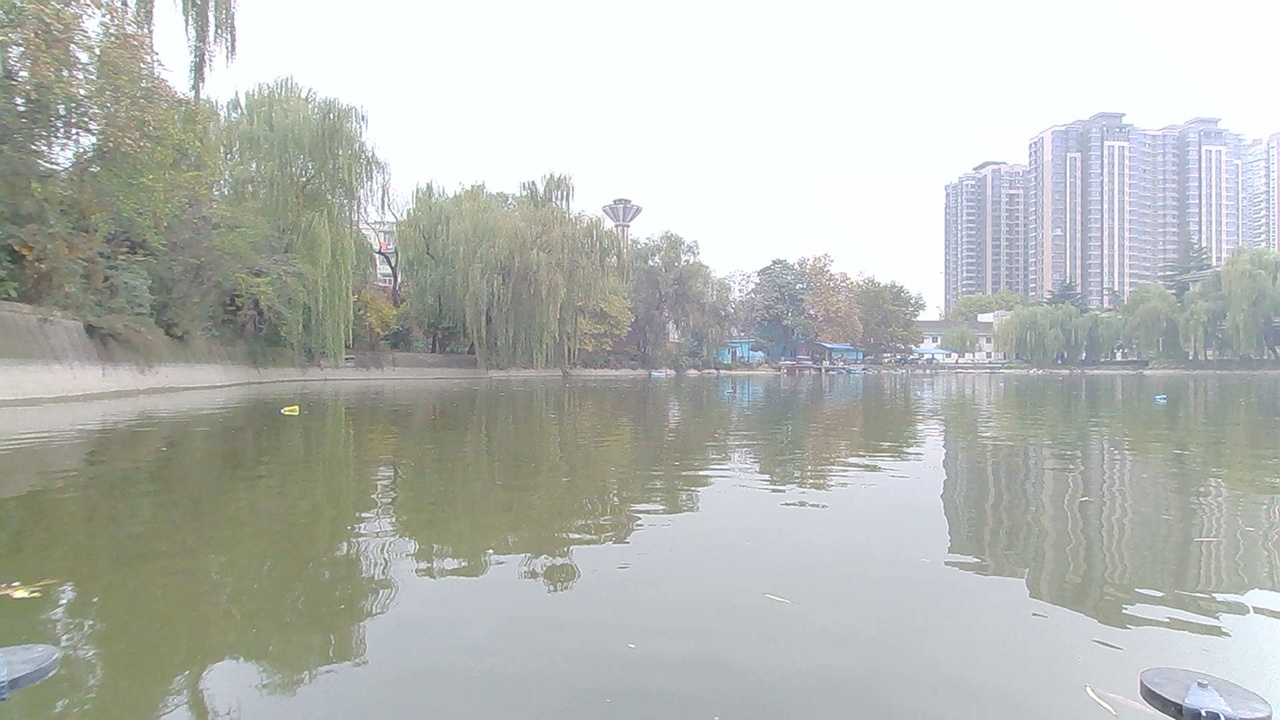bottle: (275, 399, 309, 422), (1149, 388, 1180, 411), (717, 386, 746, 401)
